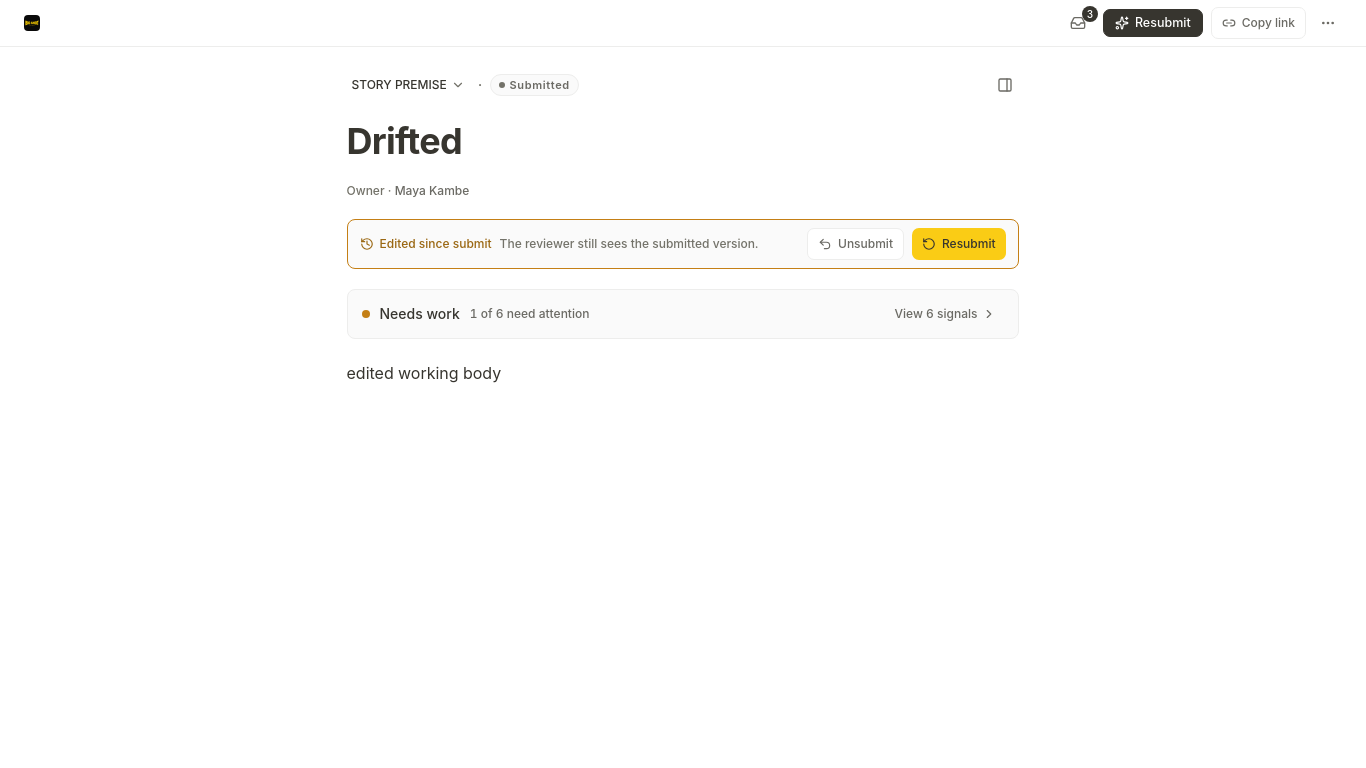
Scenario: DocumentPage version drift (edit mode) › Resubmit previews then confirm replaces the snapshot with the current body
The image size is (1366, 768).
Step 1. Click the 1st button "Resubmit" → (1153, 23), box [1103,9,1203,37]
(page scrolled)
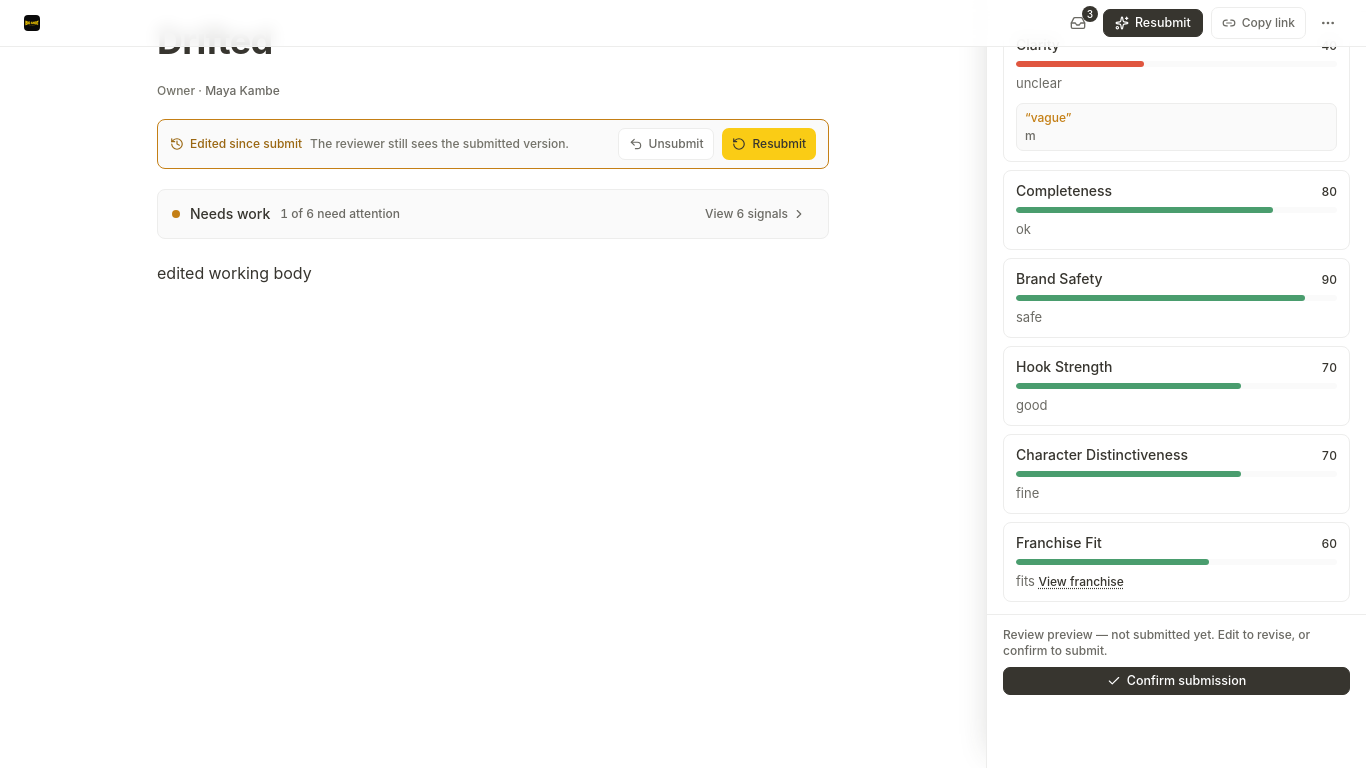
Expected: the button "Confirm submission" is shown
Step 2. Click the button "Confirm submission" → (1176, 681), box [1003,667,1350,695]
(page scrolled)
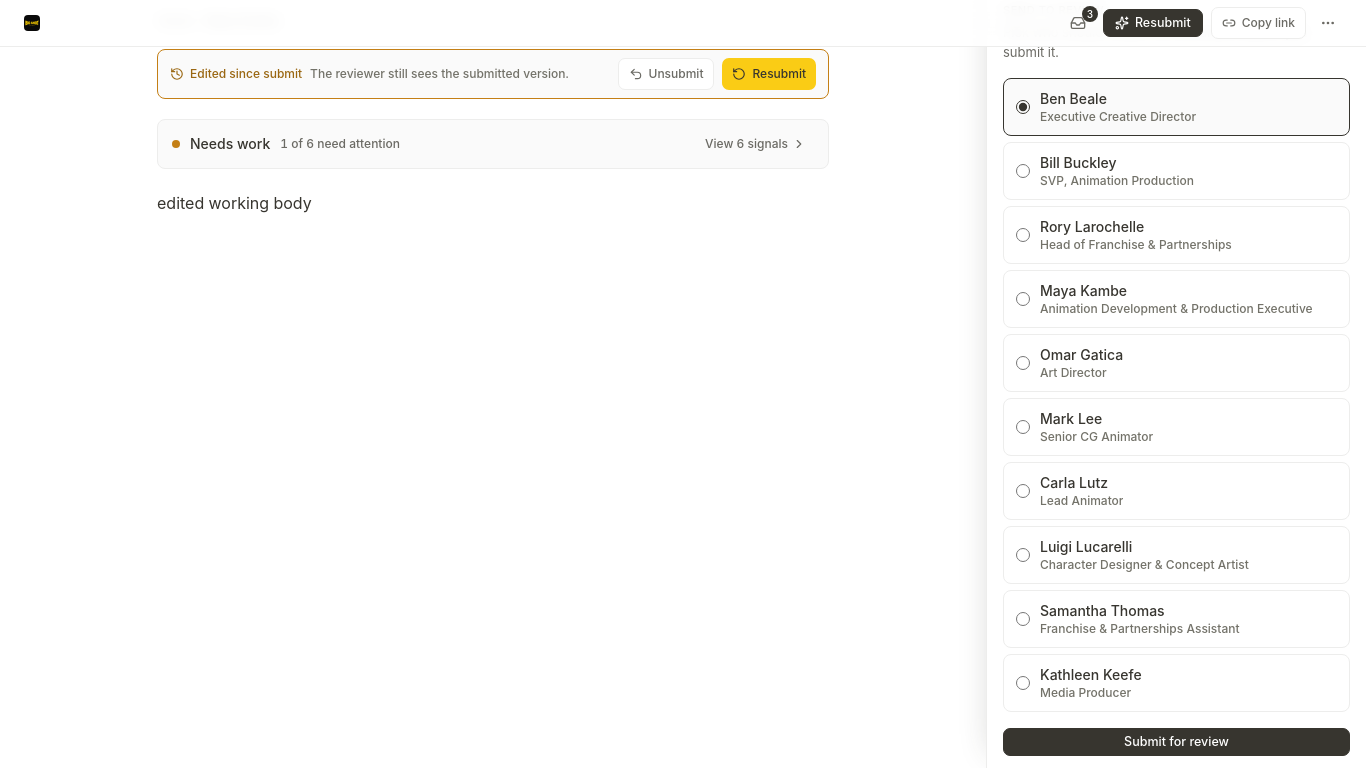
# Choosing a reviewer in the in-panel view commits the resubmit.
Step 3. Click the button "Submit for review" → (1176, 742), box [1003,728,1350,756]
(page scrolled)
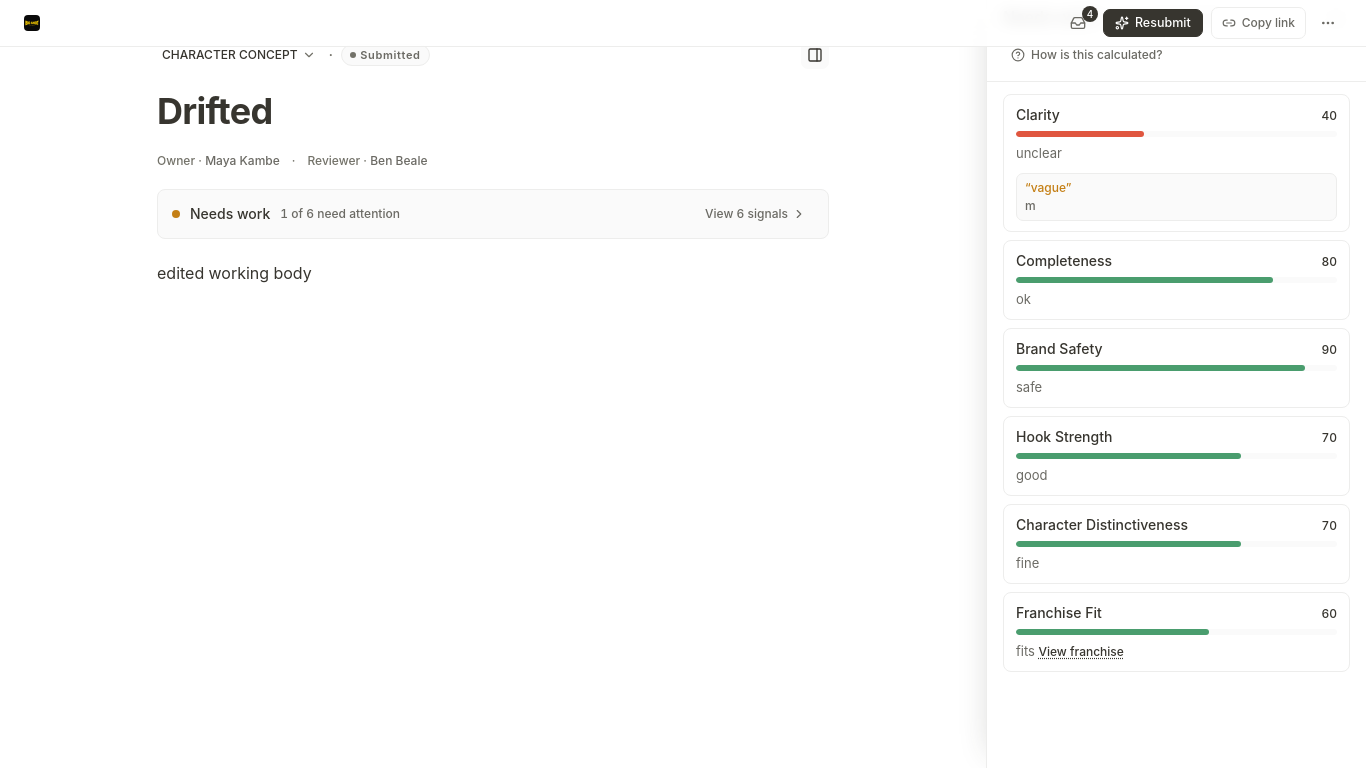
Expected: the text box labelled "edited working body" is shown, [157,263,312,283]
Expected: the text "Edited since submit" is gone
